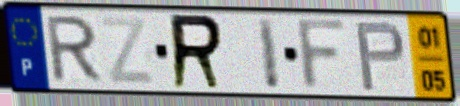F: (294, 17, 350, 94)
I: (255, 16, 283, 92)
P: (352, 19, 408, 93)
R: (168, 11, 226, 92), (44, 14, 107, 85)
Z: (97, 15, 158, 88)
